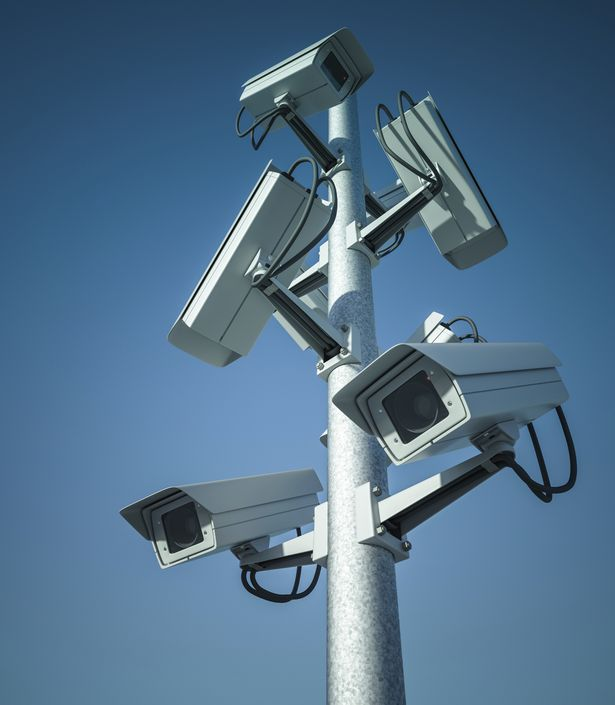CC Camera: (160, 155, 343, 382), (331, 333, 586, 467), (367, 86, 514, 280), (107, 465, 333, 570), (225, 16, 375, 131)
